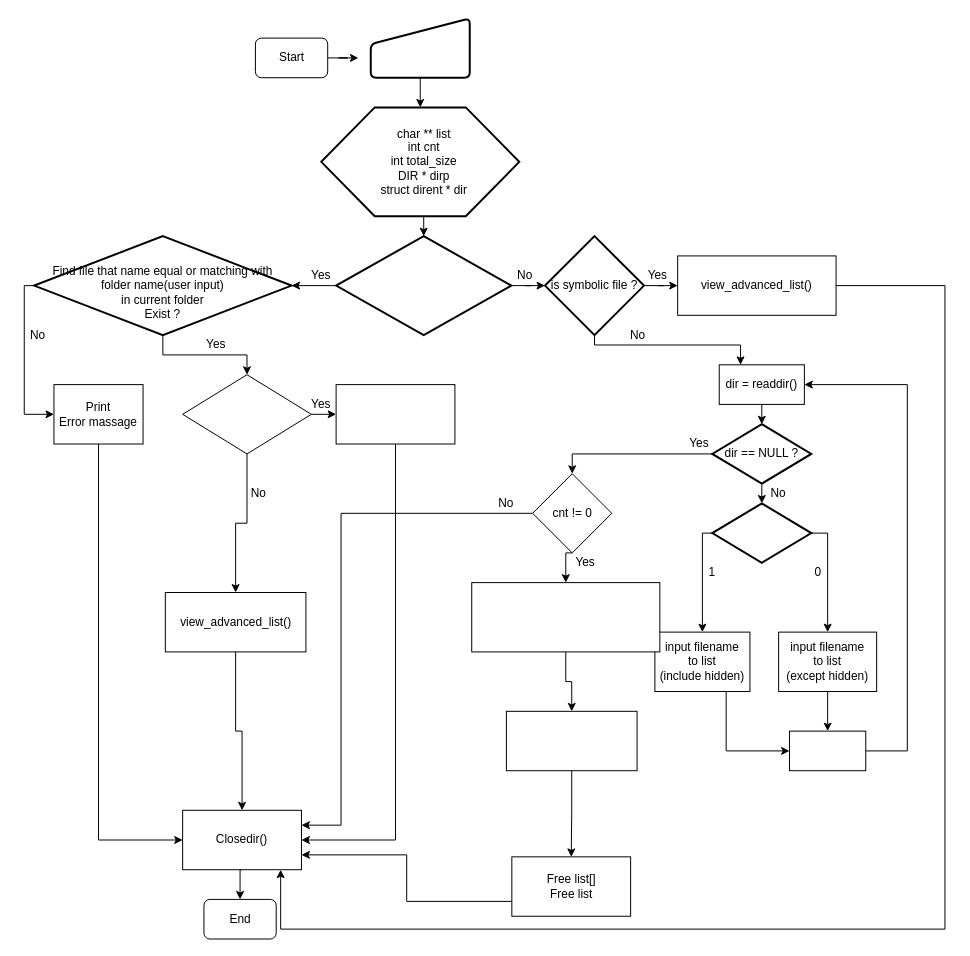
The diagram is 970 pixels wide and 956 high, and some of its shapes have lost their labels. The centre of each missing label's shape, as x and y in pixels:
advanced_ls(): pixel 395 414
char * folder_name int option: pixel 419 47
dirp == NULL ?: pixel 423 285
flag_a ?: pixel 761 532
if flag_S == 1 sort_list_S() else sort_list(): pixel 565 617
if that is folder ?: pixel 246 414
print directory path view_advanced_list(): pixel 571 740
total_size += file size: pixel 827 750
